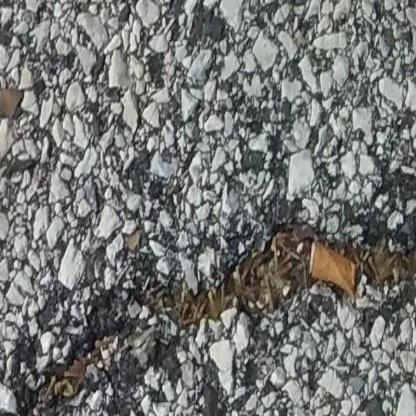Cracks: (0, 212, 416, 416)
